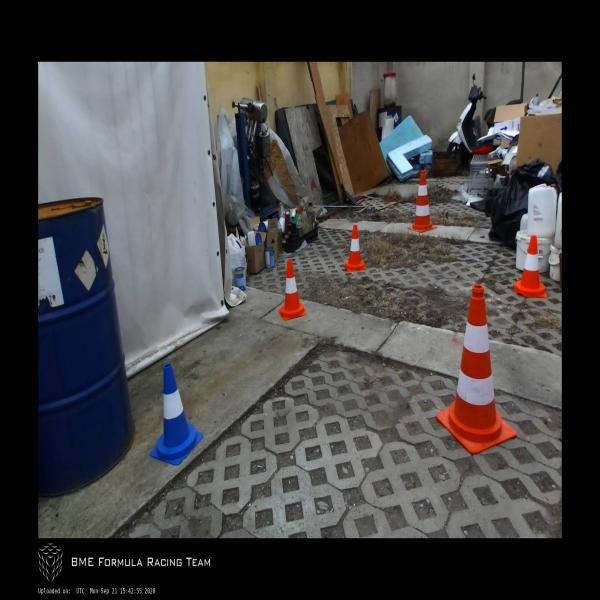blue_cone: (149, 363, 204, 466)
large_orange_cone: (435, 284, 517, 455), (408, 170, 437, 232)
orange_cone: (513, 235, 548, 298), (278, 260, 307, 322), (344, 224, 367, 272)
